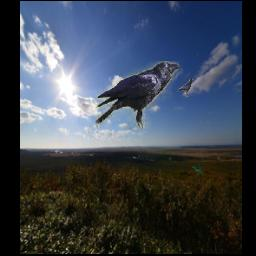Crow: (95, 62, 179, 130), (178, 77, 194, 97)
